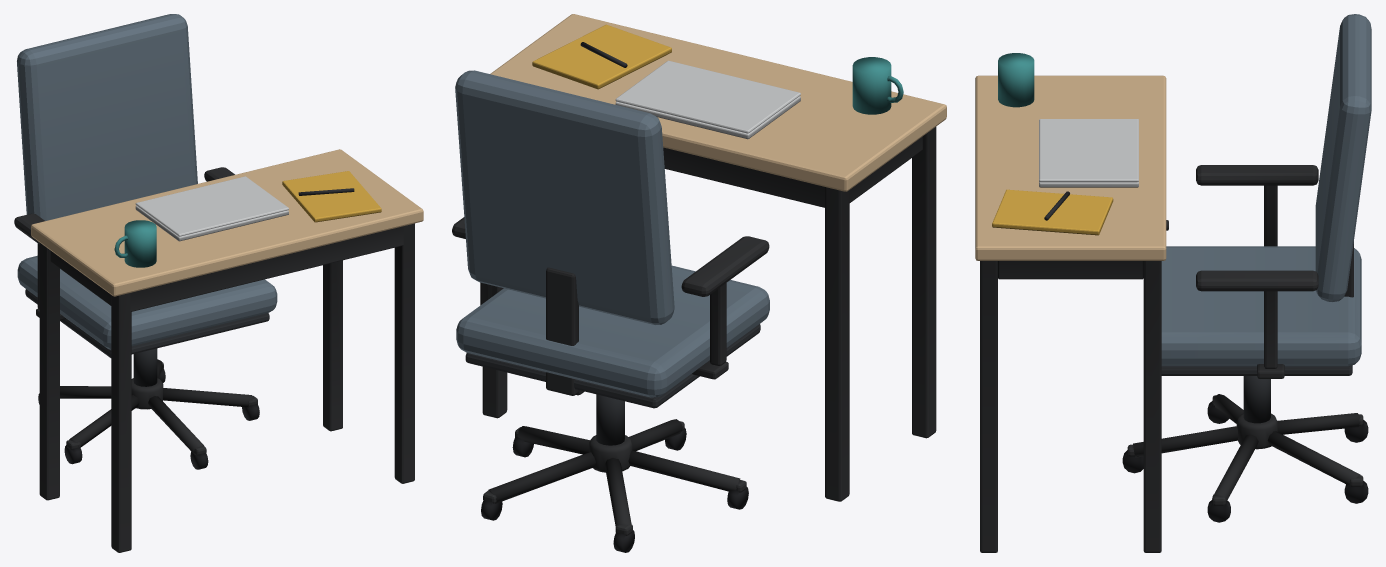
The model's file is deskLaptop.glb.
The picture shows the model from 3 angles, left to right: view 1: azimuth 30°, elevation 25°; view 2: azimuth 150°, elevation 25°; view 3: azimuth 270°, elevation 25°; orthographic projection. The views are drawn at different scales.
Visible parts, largest first — view 1: deskLaptop, lid; view 2: deskLaptop, lid; view 3: deskLaptop, lid.
Boxes of the visible parts, x1,y1,x2,y2 form: deskLaptop: [14, 14, 423, 552]; lid: [135, 176, 288, 236]; deskLaptop: [452, 14, 946, 552]; lid: [615, 60, 800, 133]; deskLaptop: [975, 14, 1371, 552]; lid: [1039, 119, 1138, 182].
Bounding box in the file's own units: 0.9 × 1.01 × 0.8716.
